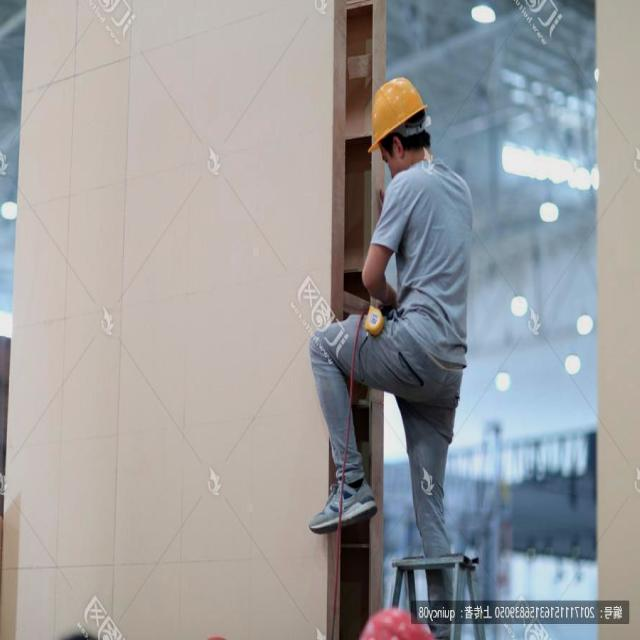head_helmet: (365, 68, 434, 152)
person: (295, 41, 487, 595)
shoes: (306, 463, 379, 542)
